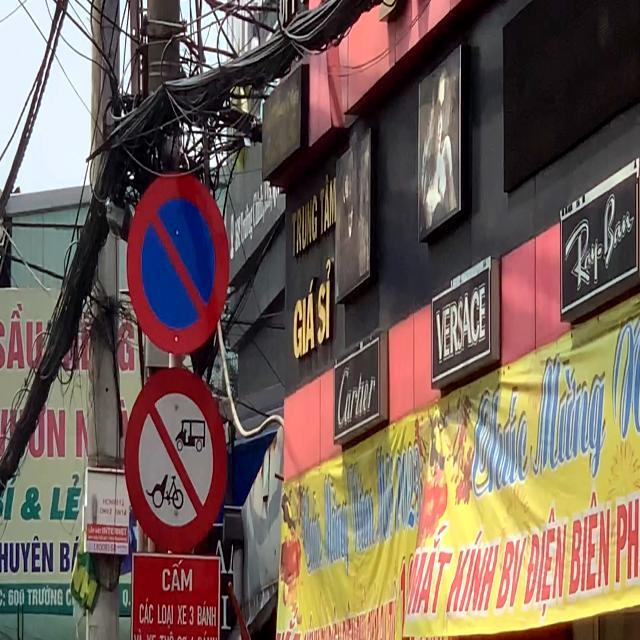Cam do xe: (126, 171, 231, 356)
